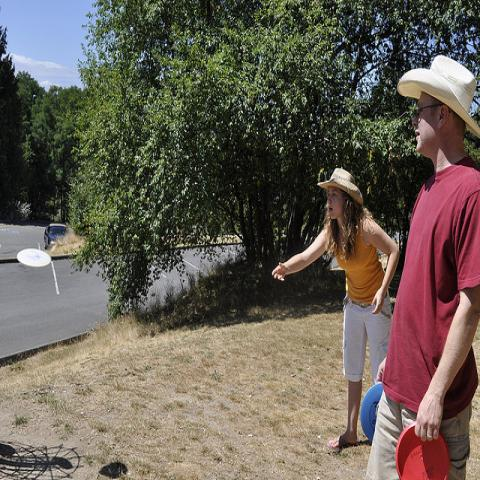car: (43, 222, 67, 250)
